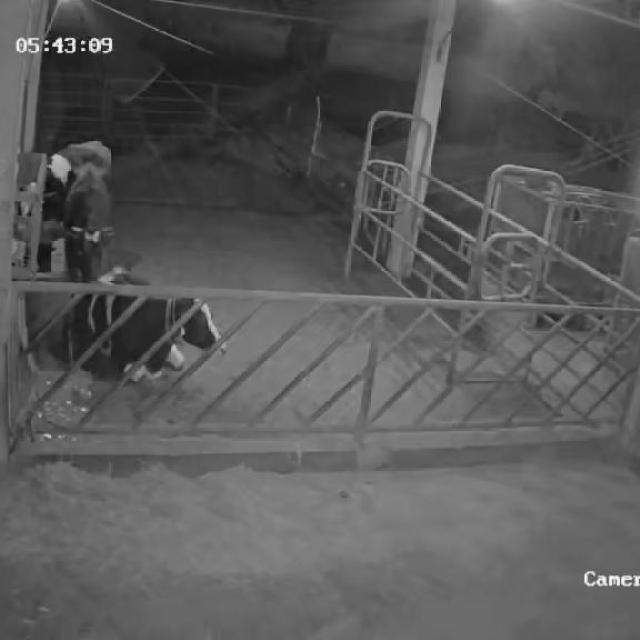lying down: (67, 269, 226, 384)
standing: (14, 140, 112, 222), (62, 166, 112, 286)
